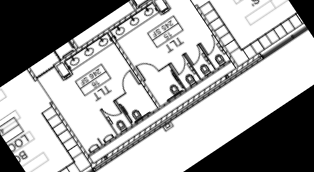door: (134, 55, 162, 83), (115, 69, 141, 95), (100, 99, 125, 124), (199, 33, 222, 57), (184, 43, 207, 67), (170, 55, 192, 77)
wall: (89, 49, 265, 170), (105, 27, 164, 111), (44, 96, 97, 169), (191, 0, 241, 70)
